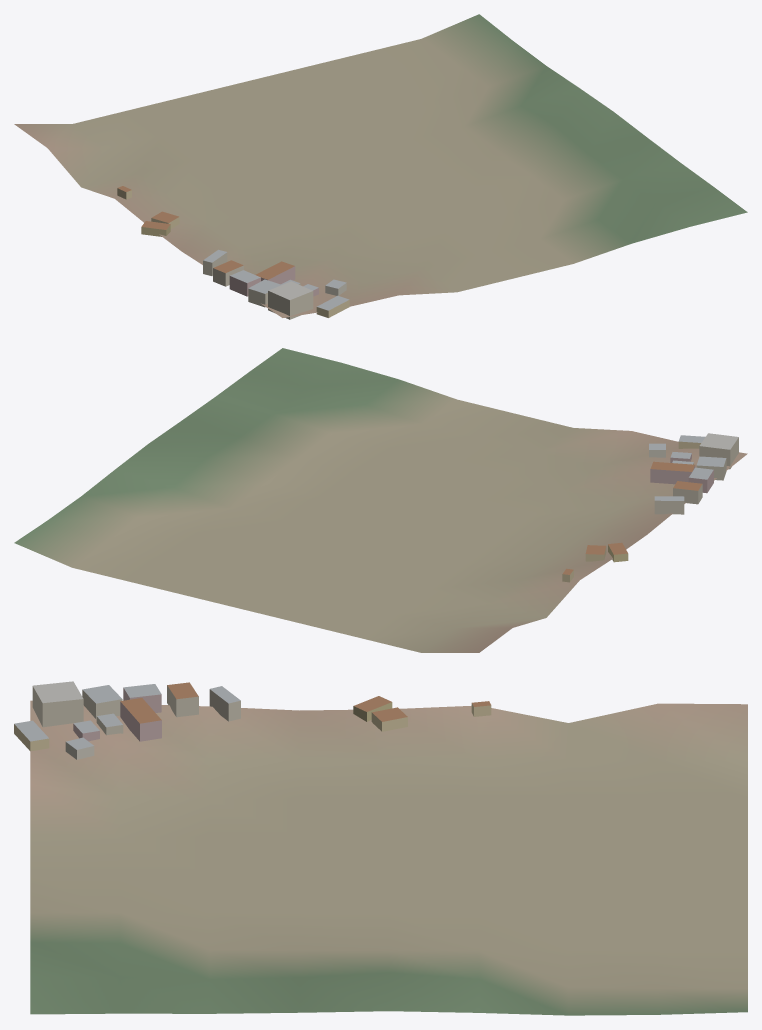
The picture shows the model from 3 angles, top to bottom: view 1: azimuth 30°, elevation 25°; view 2: azimuth 150°, elevation 25°; view 3: azimuth 270°, elevation 25°; orthographic projection. The views are drawn at different scales.
Visible parts, largest first — view 1: Lo; view 2: Lo; view 3: Lo.
Boxes of the visible parts, x1=… form: Lo: x1=14, y1=14, x2=747, y2=319; Lo: x1=14, y1=348, x2=747, y2=652; Lo: x1=14, y1=681, x2=747, y2=1015.
Bounding box in the file's own units: 262 × 16.84 × 262.
